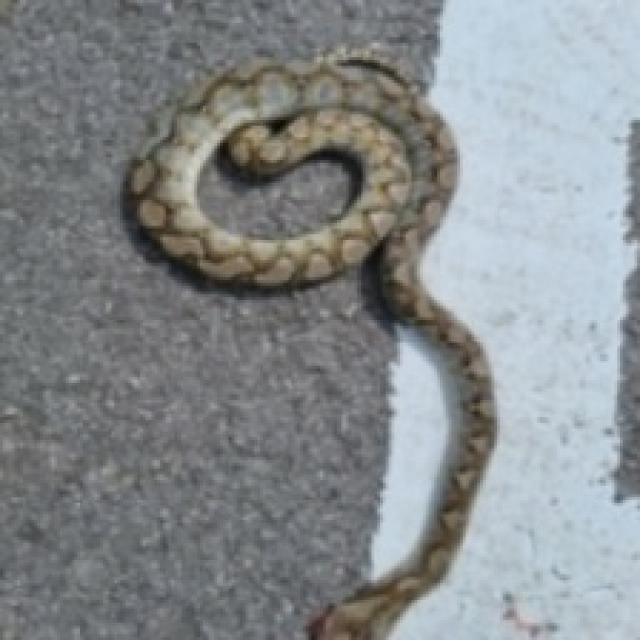reticulated python: (123, 49, 494, 637)
